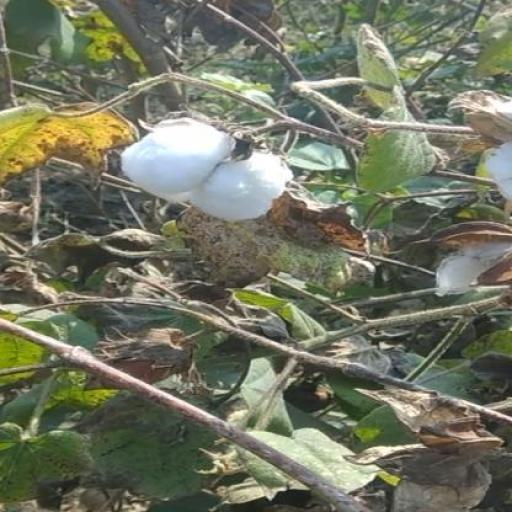cotton_ready: (114, 122, 301, 220)
